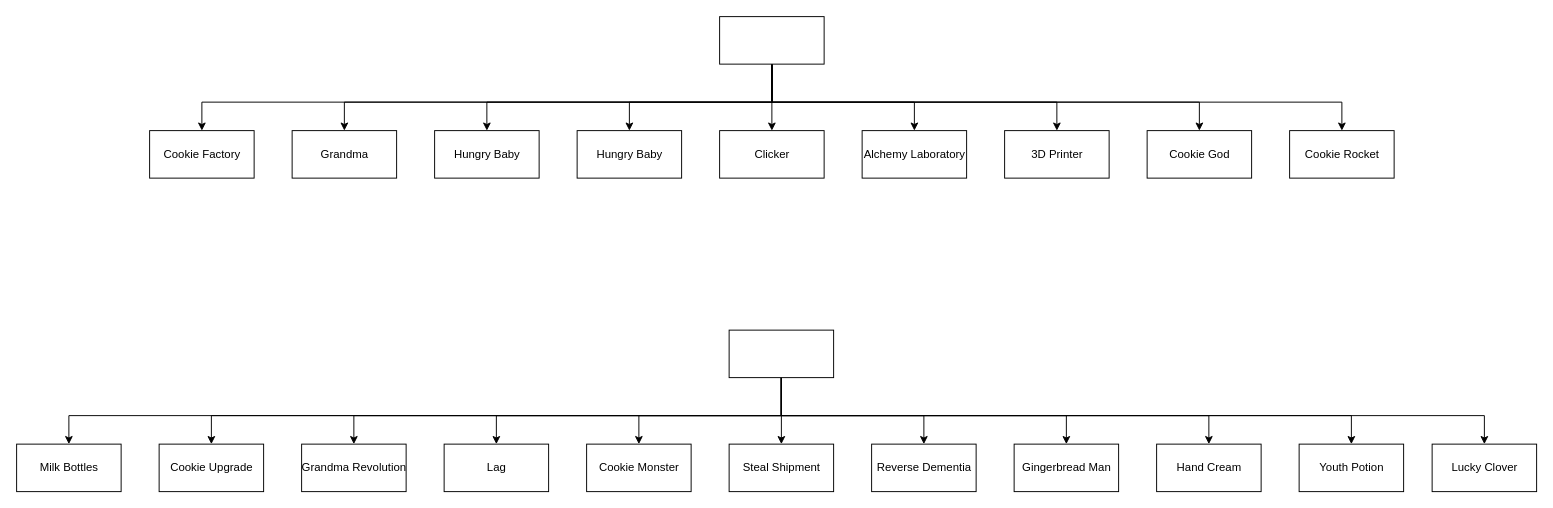
The diagram is 1553 pixels wide and 508 high, and some of its shapes have lost their labels. The box of each missing label's shape, as (x1, y1, x2, y2) in pixels:
Building: (719, 16, 824, 64)
Powerup: (728, 329, 834, 378)
